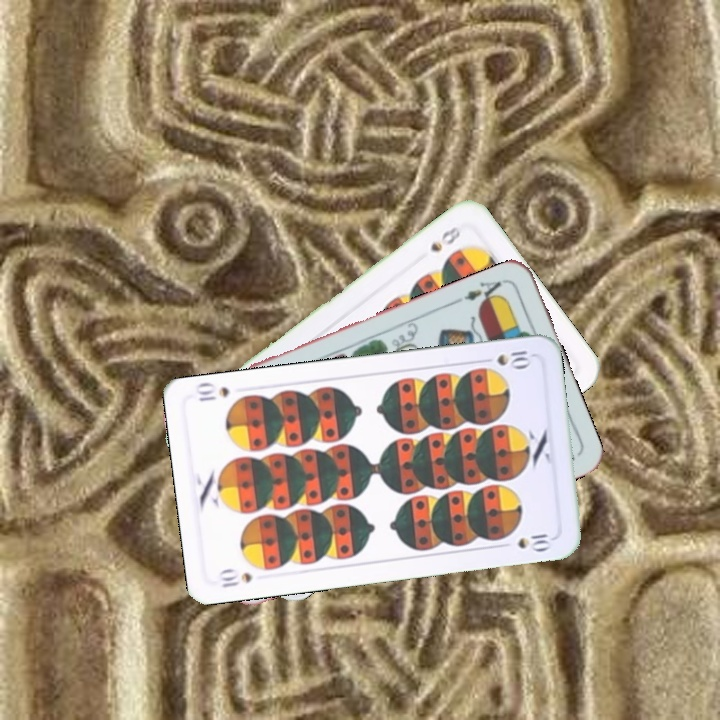EA: (452, 275, 509, 309)
S10: (493, 345, 534, 371), (214, 565, 255, 590)
S8: (426, 222, 466, 255)
